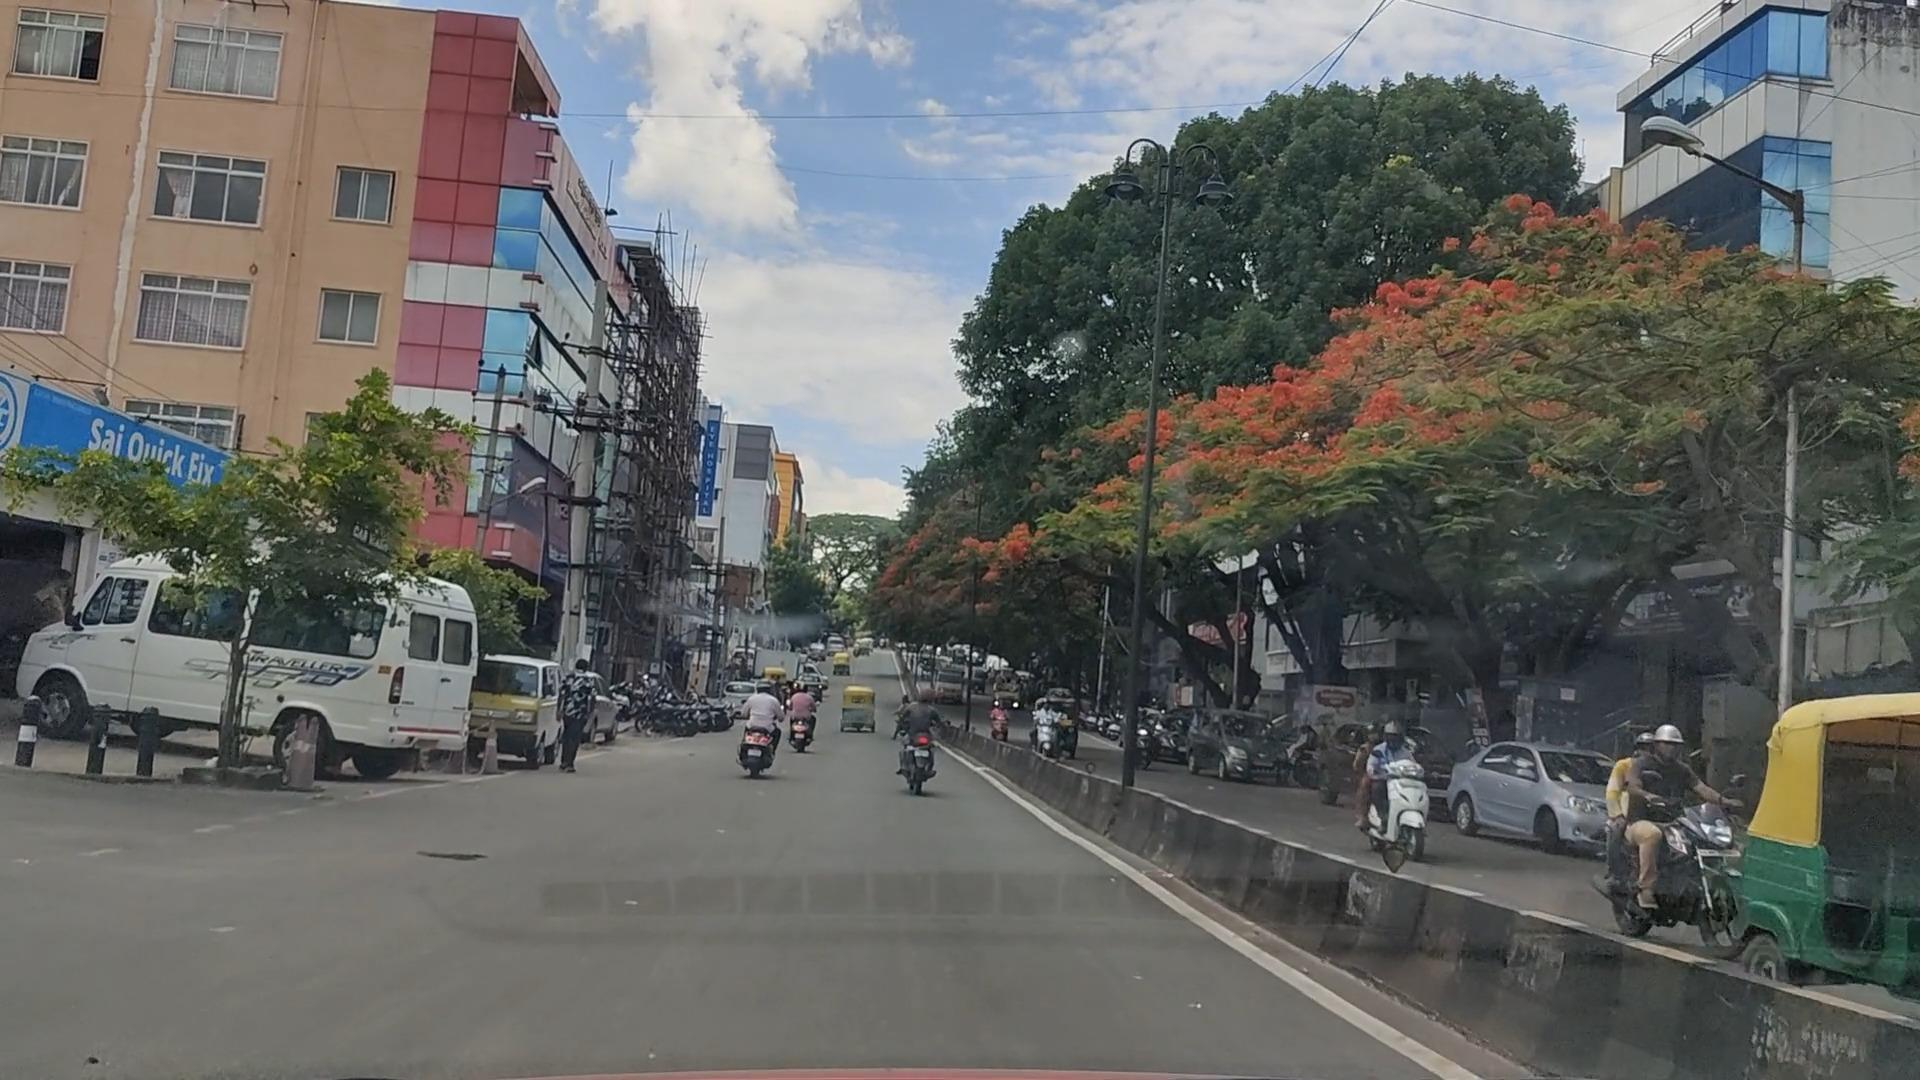LMV: (868, 688, 959, 806), (731, 678, 795, 789)
